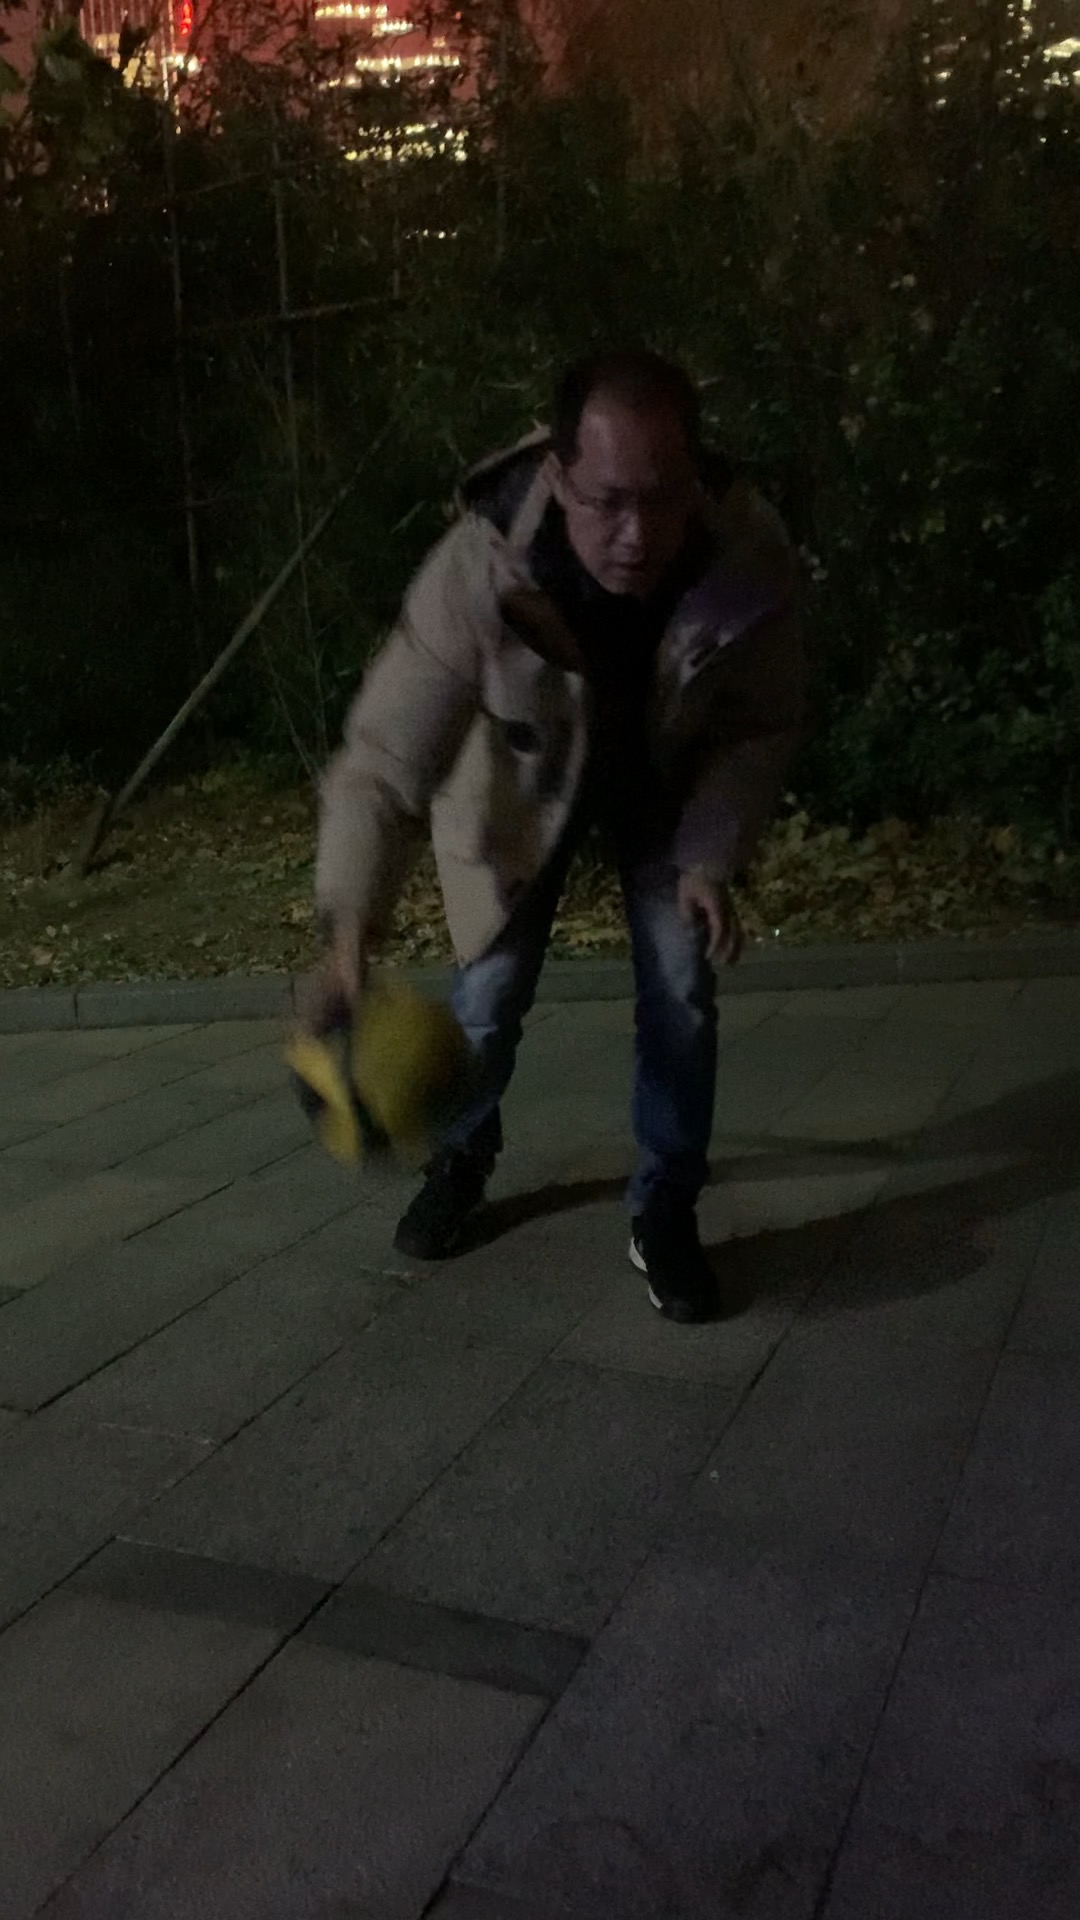ball: (285, 978, 487, 1174)
